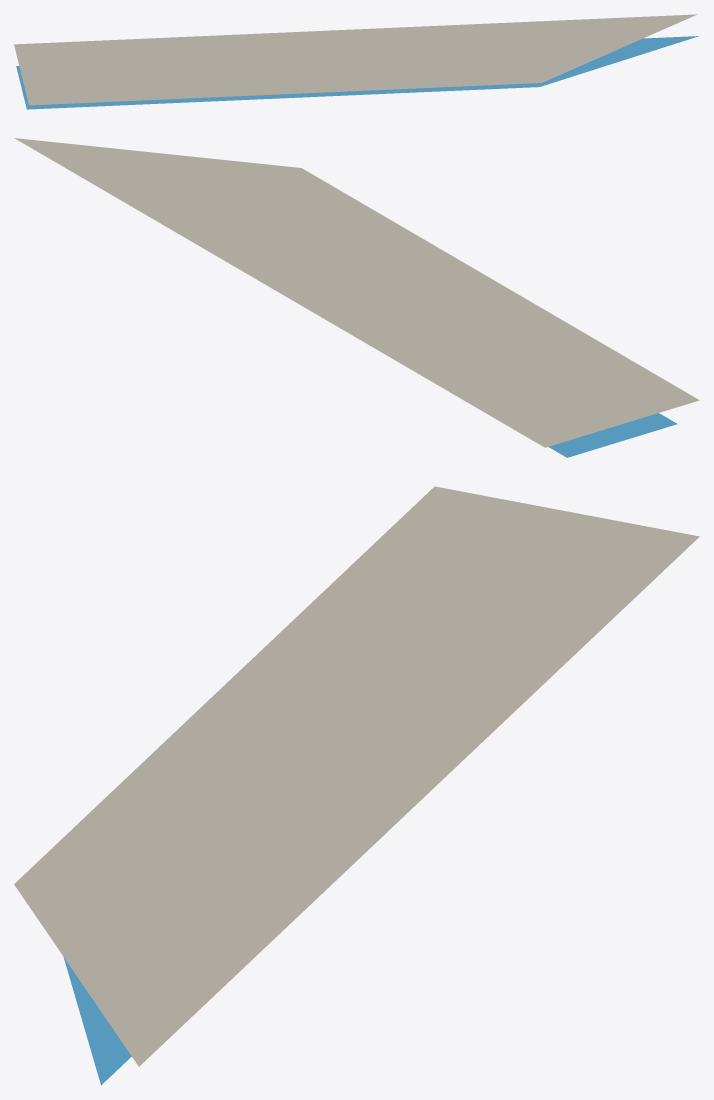
3 views of the same model, one above another, from view 1: azimuth 30°, elevation 25°; view 2: azimuth 150°, elevation 25°; view 3: azimuth 270°, elevation 25° (orthographic). The views are drawn at different scales.
Visible parts, largest first — view 1: estructura_terreno, estructura_agua; view 2: estructura_terreno, estructura_agua; view 3: estructura_terreno, estructura_agua.
Boxes of the visible parts, box(x1,y1,x2,y2) form: estructura_terreno: box(14, 14, 697, 105); estructura_agua: box(16, 36, 698, 109); estructura_terreno: box(14, 138, 699, 447); estructura_agua: box(548, 413, 677, 457); estructura_terreno: box(14, 486, 699, 1066); estructura_agua: box(63, 957, 131, 1085).
Size of the model in its own units: 19.86 by 0.41 by 9.92.
